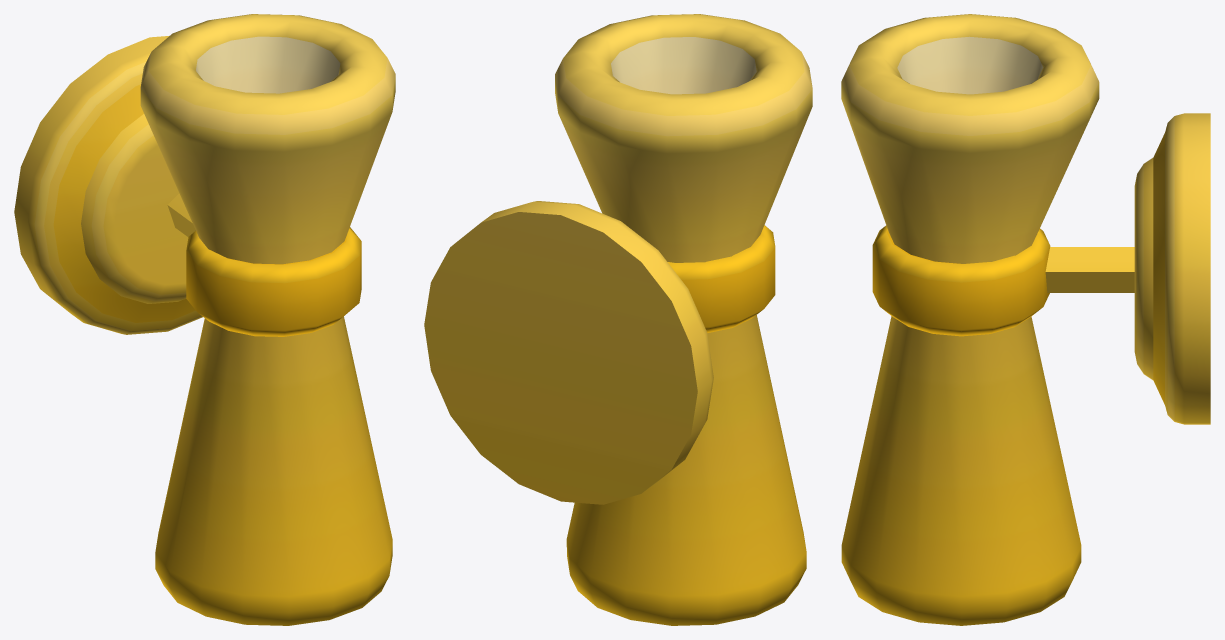
The model's file is Light_12.glb.
3 renders of one model, left to right at view 1: azimuth 30°, elevation 25°; view 2: azimuth 150°, elevation 25°; view 3: azimuth 270°, elevation 25°, orthographic.
Visible parts, largest first — view 1: Light_12; view 2: Light_12; view 3: Light_12.
Boxes of the visible parts, x1,y1,x2,y2 form: Light_12: (14,14,395,625); Light_12: (424,14,812,625); Light_12: (841,14,1210,625).
Size of the model in its own units: 0.169 by 0.3145 by 0.1993.
Materials: 1 (1 with a texture image).
